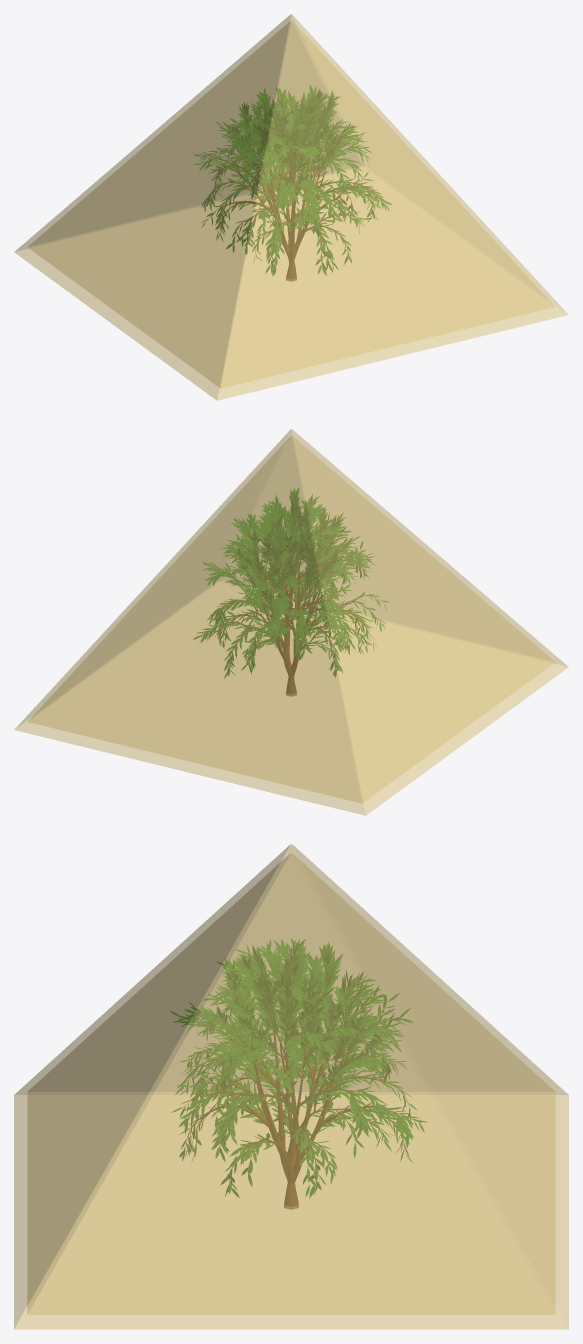
File: TreePyramidTest.glb
3 renders of one model, top to bottom at view 1: azimuth 30°, elevation 25°; view 2: azimuth 150°, elevation 25°; view 3: azimuth 270°, elevation 25°, orthographic. The views are drawn at different scales.
Parts seen in each view (by area): view 1: Cube, leaves, tree; view 2: Cube, leaves, tree; view 3: Cube, leaves, tree.
Part boxes in pixels (box(x1,y1,x2,y2)): Cube: box(14, 14, 568, 400); leaves: box(193, 85, 391, 276); tree: box(210, 115, 376, 281); Cube: box(14, 429, 568, 815); leaves: box(193, 488, 389, 678); tree: box(209, 505, 376, 696); Cube: box(14, 844, 568, 1329); leaves: box(170, 938, 427, 1198); tree: box(185, 960, 409, 1209).
Bounding box in the file's own units: 2.91 × 2.13 × 2.91.
